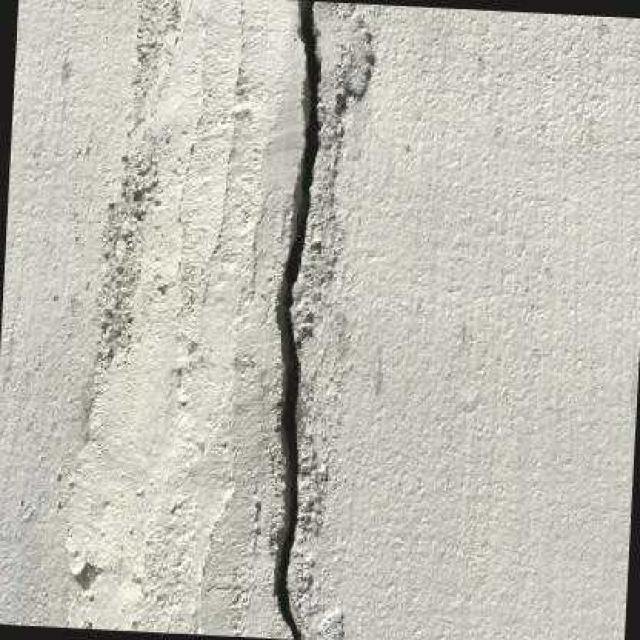D00: (268, 0, 324, 640)
